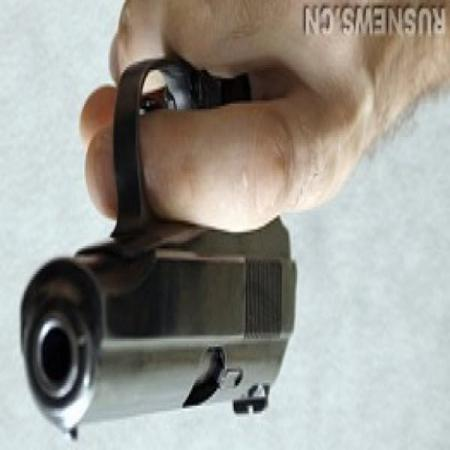Pistol: (22, 63, 300, 442)
